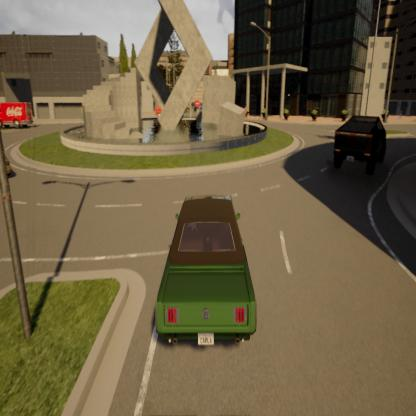Cars: (139, 172, 264, 372), (330, 103, 394, 195), (0, 82, 36, 133)
